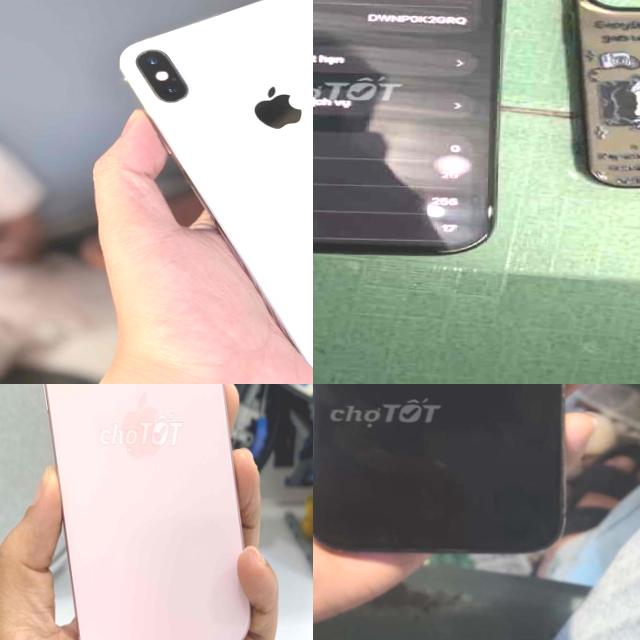gen_14: (313, 384, 585, 559)
gen_15: (5, 384, 271, 640), (313, 0, 530, 274)
gen_x_xs: (122, 0, 313, 368)
